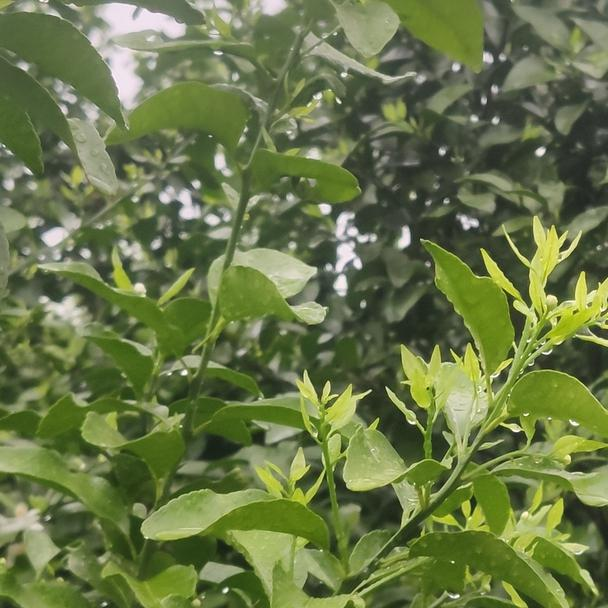shoot: (493, 214, 579, 333), (389, 344, 464, 434), (295, 377, 364, 474)
